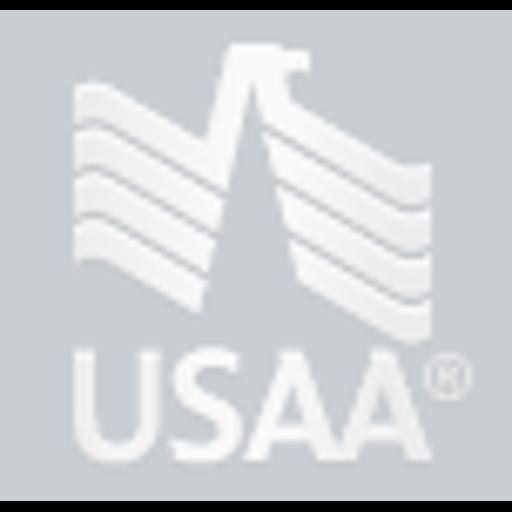United Services Automobile Association: (0, 10, 512, 501)
